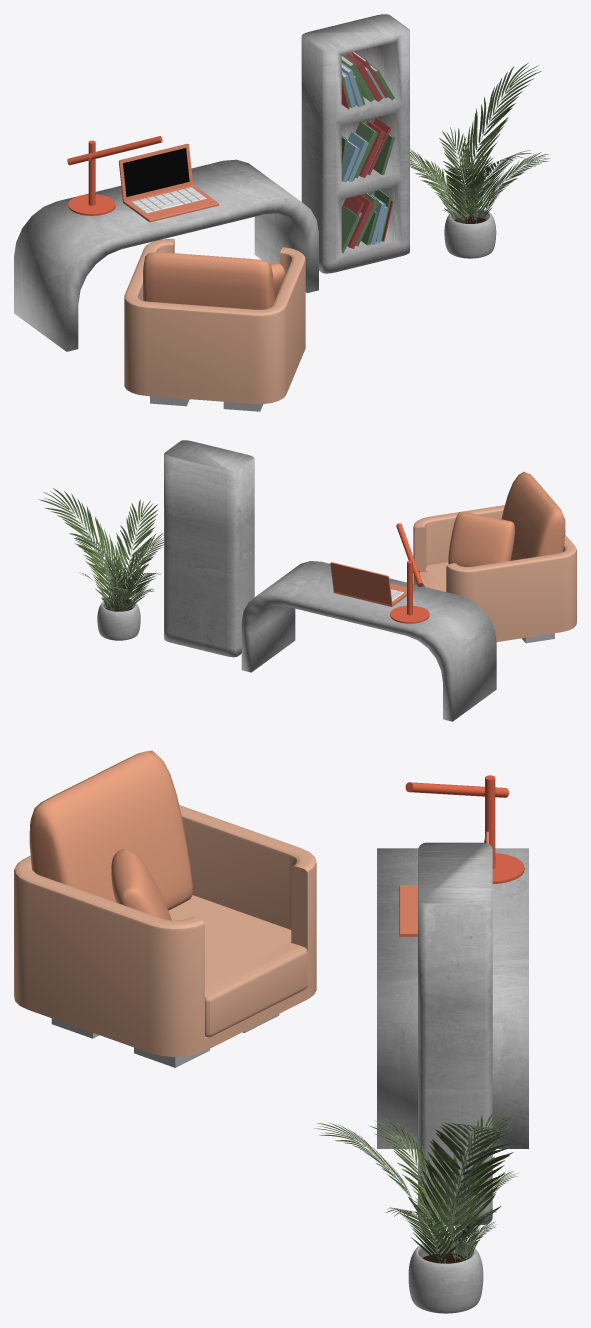
Rendered from Bureau.glb.
3 renders of one model, top to bottom at view 1: azimuth 30°, elevation 25°; view 2: azimuth 150°, elevation 25°; view 3: azimuth 270°, elevation 25°, orthographic. The views are drawn at different scales.
Visible parts, largest first — view 1: Desk, Sofa, Library, Leaves, Big_Pillow, Computer, Books_02, Books_03, Books_01, Plant, Lamp; view 2: Library, Desk, Sofa, Leaves, Big_Pillow, Little_Pillow, Computer, Plant, Lamp, Down_Pillow; view 3: Sofa, Library, Desk, Big_Pillow, Leaves, Down_Pillow, Plant, Little_Pillow, Lamp, Computer.
Part boxes in pixels (x1,y1,x2,y2): Desk: (14,159,318,351); Sofa: (124,239,305,411); Library: (301,14,409,273); Leaves: (410,62,550,223); Big_Pillow: (143,252,274,309); Computer: (118,143,219,222); Books_02: (341,118,394,182); Books_03: (341,190,393,253); Books_01: (341,52,394,109); Plant: (444,208,496,258); Lamp: (67,136,162,215); Library: (164,440,254,657); Desk: (241,561,496,721); Sofa: (413,505,576,643); Leaves: (38,488,163,611); Big_Pillow: (501,472,565,560); Little_Pillow: (448,511,514,566); Computer: (330,562,414,606); Plant: (97,598,140,640); Lamp: (390,523,429,623); Down_Pillow: (413,562,448,591); Sofa: (14,805,316,1067); Library: (418,842,492,1224); Desk: (377,848,528,1148); Big_Pillow: (29,750,193,910); Leaves: (314,1111,517,1263); Down_Pillow: (168,895,307,1037); Plant: (408,1239,483,1313); Little_Pillow: (111,849,171,920); Lamp: (405,775,524,883); Computer: (399,831,488,936).
Bounding box in the file's own units: 7.79 × 3.41 × 5.
14 materials, 2 textured.
